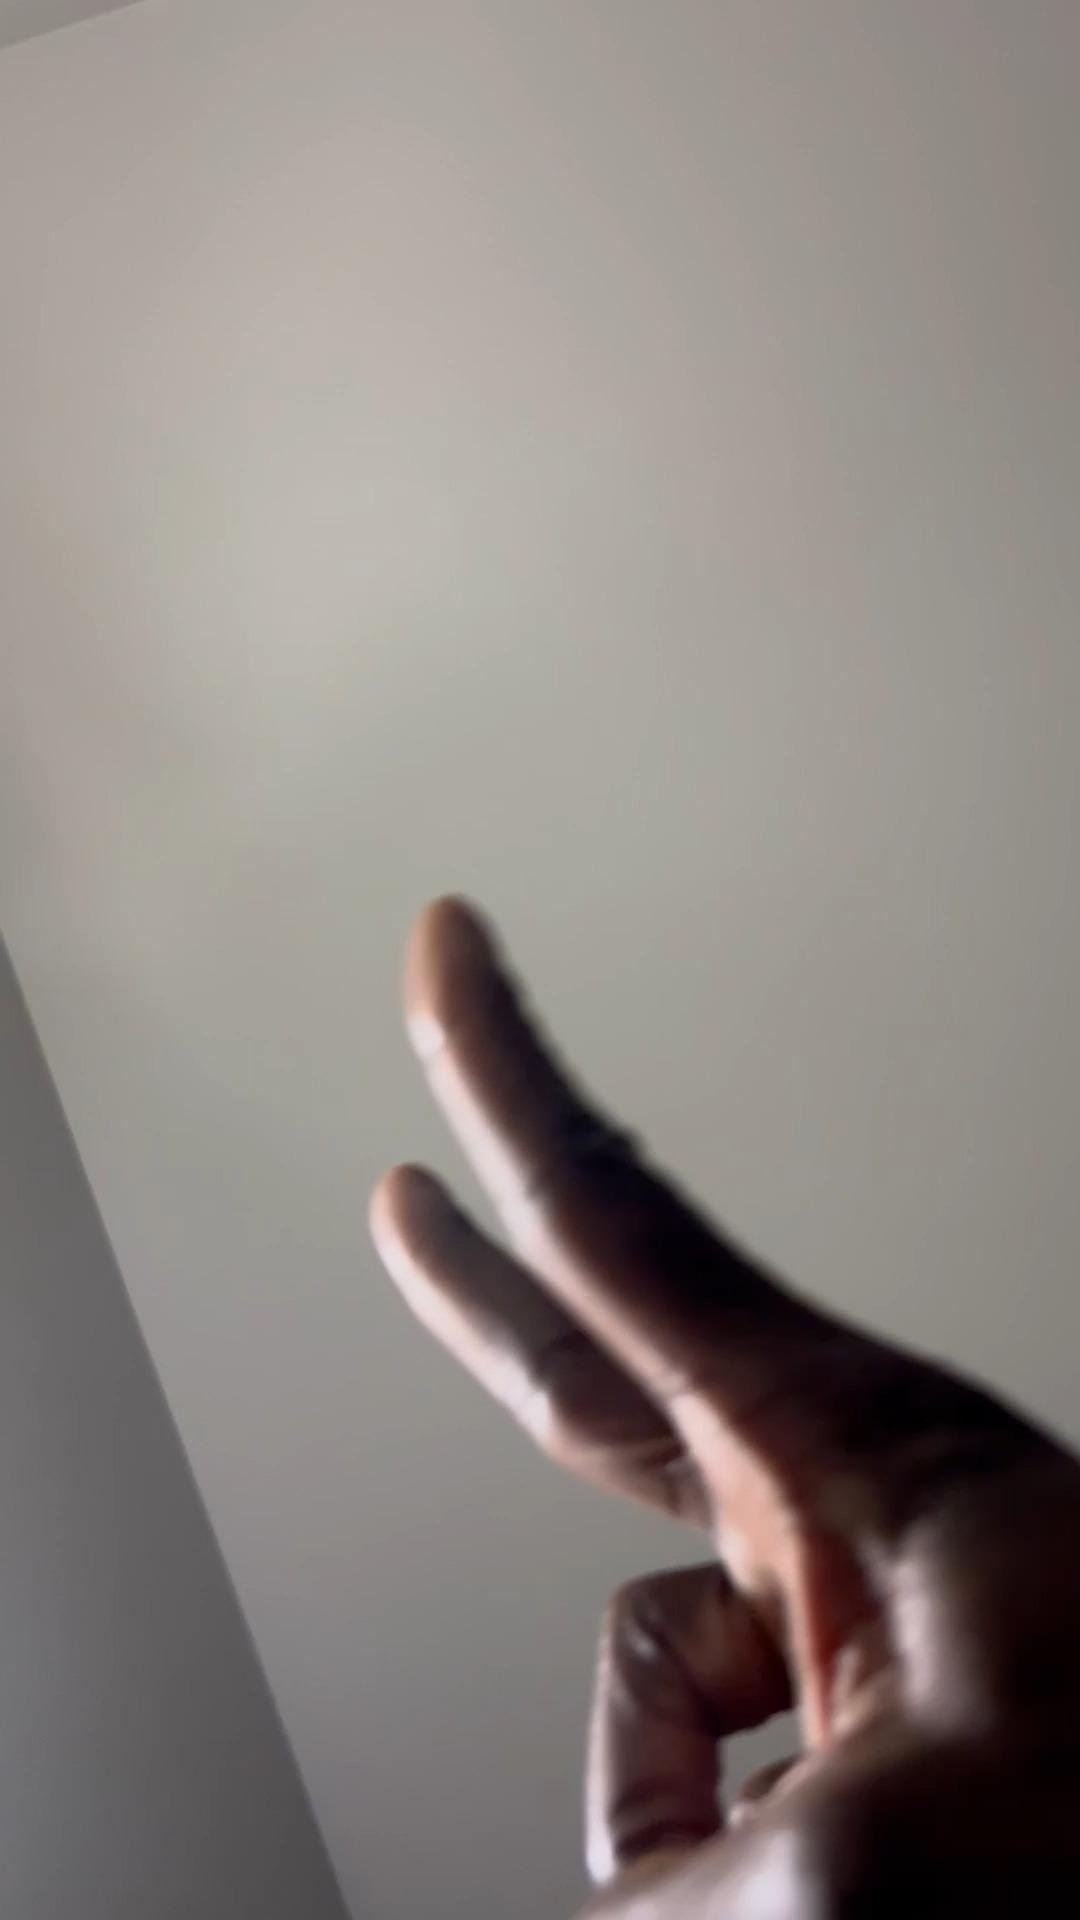Scissors: (367, 890, 1080, 1920)
